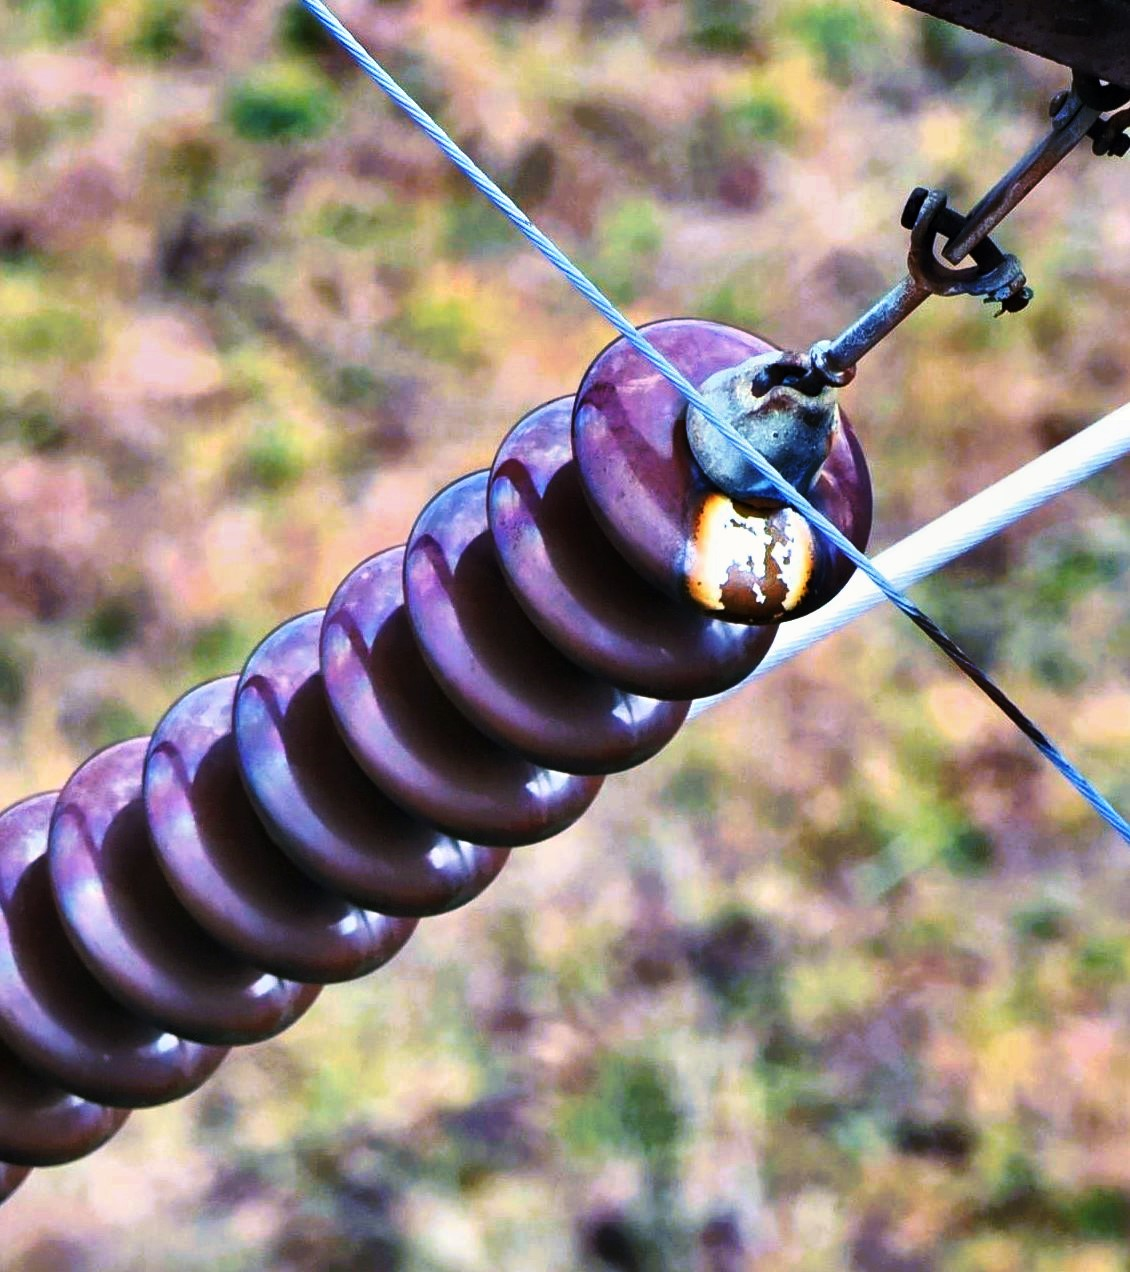Insulator flashover: (555, 296, 891, 629)
